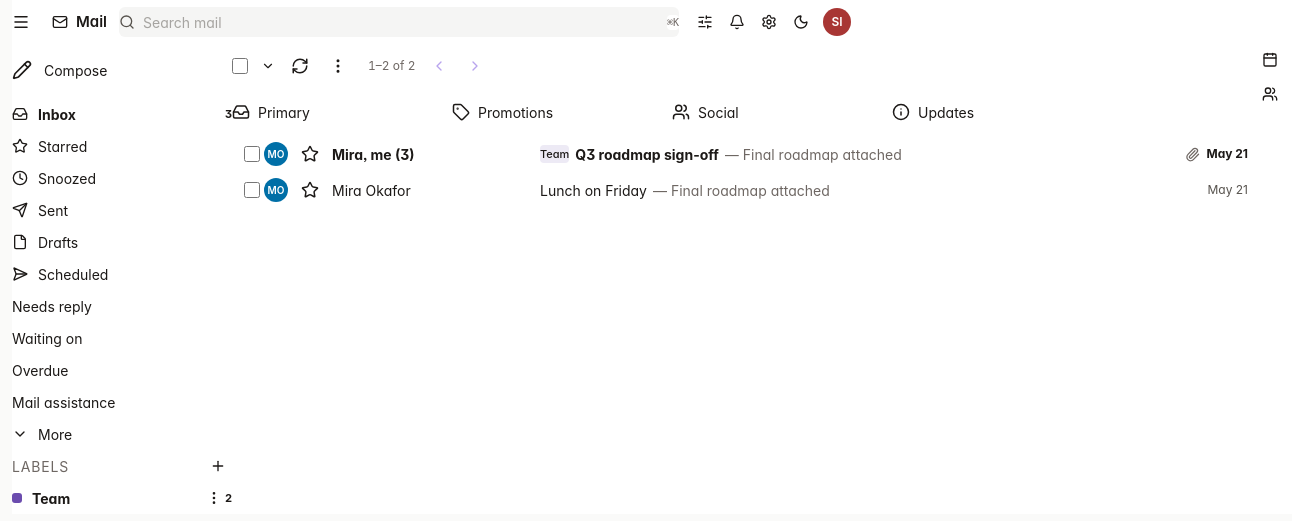
it: conversation list › renders participant rows on a grid with Inbox-only category tabs
This screenshot has width=1292, height=521.
expect the row that starts with "Mira, me (3)" is shown: met, box [332,146,415,162]
expect the element that starts with "Mira, me (3)" is shown: met, box [264,136,1248,172]
What coordinates should you click on to do the following:
click the tab "Updates"
I would click on:
 (1002, 112)
Its box is [892,88,1112,136].
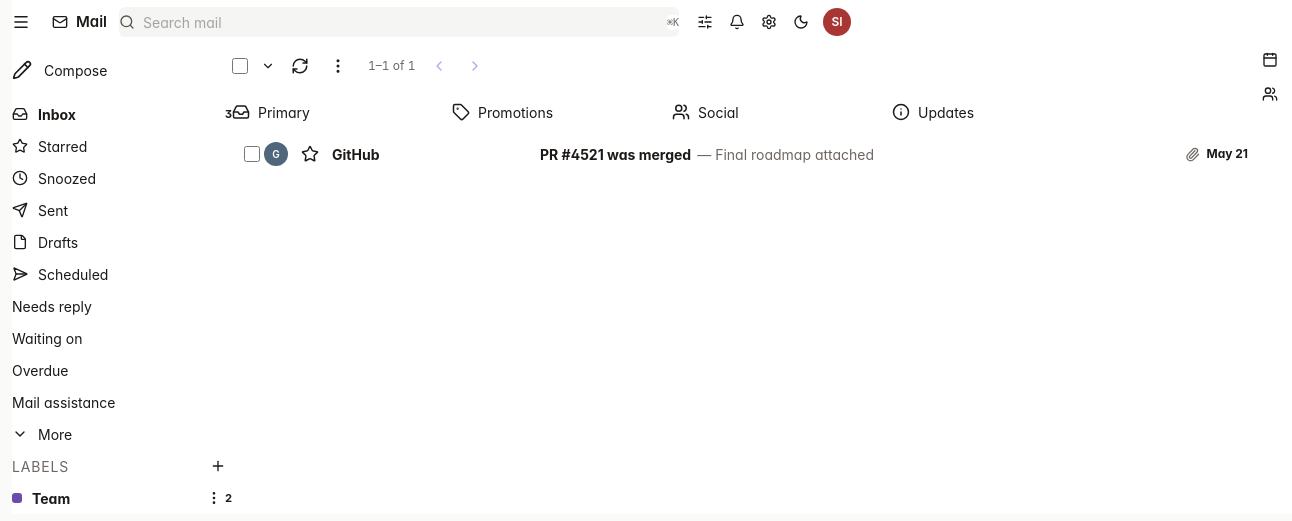
expect the text "PR #4521 was merged" is shown: met, box [540,144,691,164]
What coordinates should you click on to do the following:
click the button "Sent"
I would click on:
 (122, 210)
Its box is [12,194,232,226].
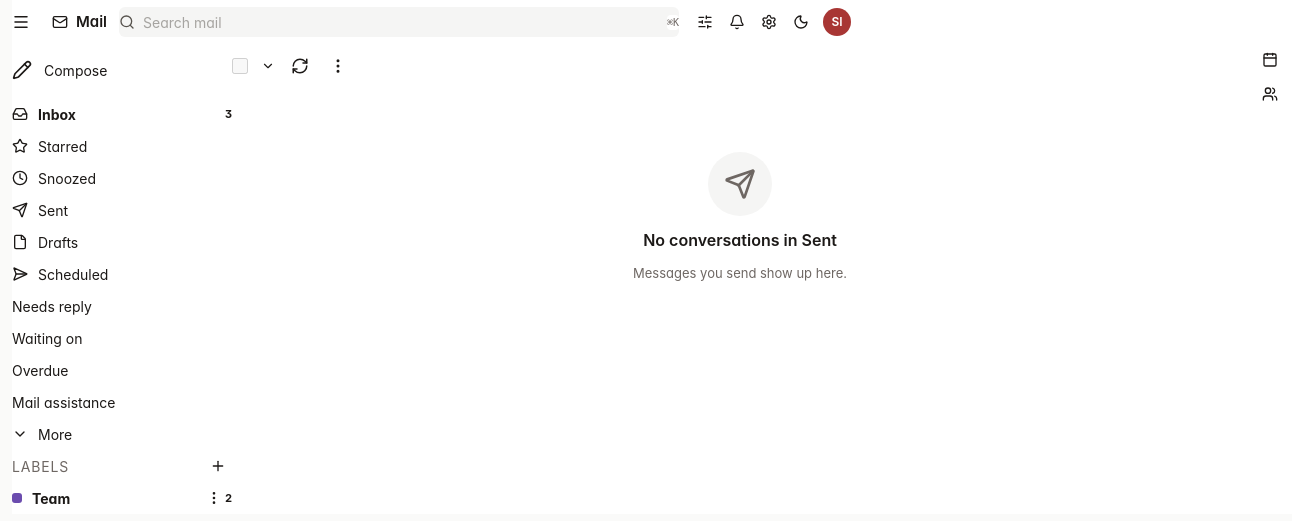
expect the text "No conversations in Sent" is shown: met, box [643,228,837,252]
